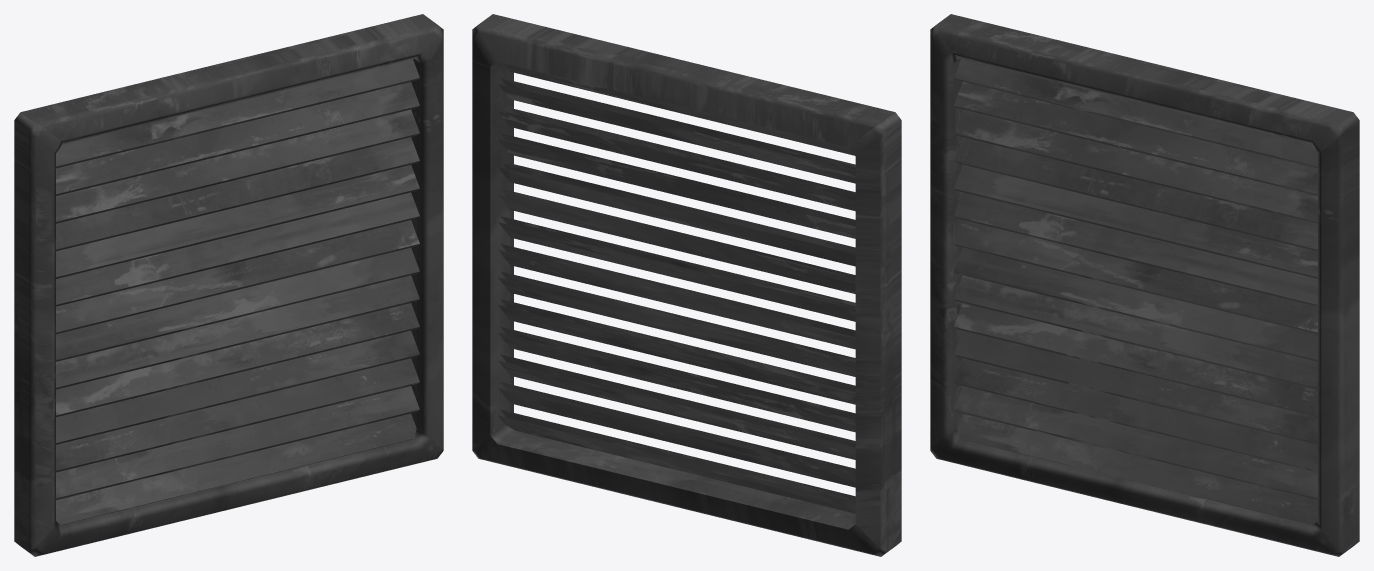
File: gridquad_001.fbx
The picture shows the model from 3 angles, left to right: view 1: azimuth 30°, elevation 25°; view 2: azimuth 150°, elevation 25°; view 3: azimuth 330°, elevation 25°; orthographic projection.
Visible parts, largest first — view 1: gridquad_001; view 2: gridquad_001; view 3: gridquad_001.
Boxes of the visible parts, x1,y1,x2,y2 form: gridquad_001: (14,14,443,556); gridquad_001: (472,14,901,556); gridquad_001: (930,14,1359,556).
Bounding box in the file's own units: 1001 × 112 × 1001.
